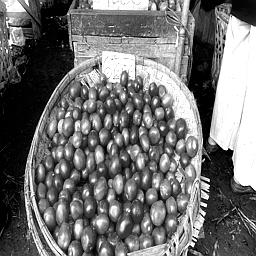bukan telur: (108, 156, 122, 175), (126, 179, 138, 200), (94, 179, 106, 200), (88, 131, 99, 150), (75, 150, 85, 170), (140, 134, 151, 152), (99, 128, 110, 145), (96, 163, 107, 178), (65, 144, 74, 162), (64, 118, 73, 136), (161, 154, 170, 172), (88, 153, 95, 174), (136, 154, 145, 170), (114, 134, 124, 148), (130, 126, 138, 143)
